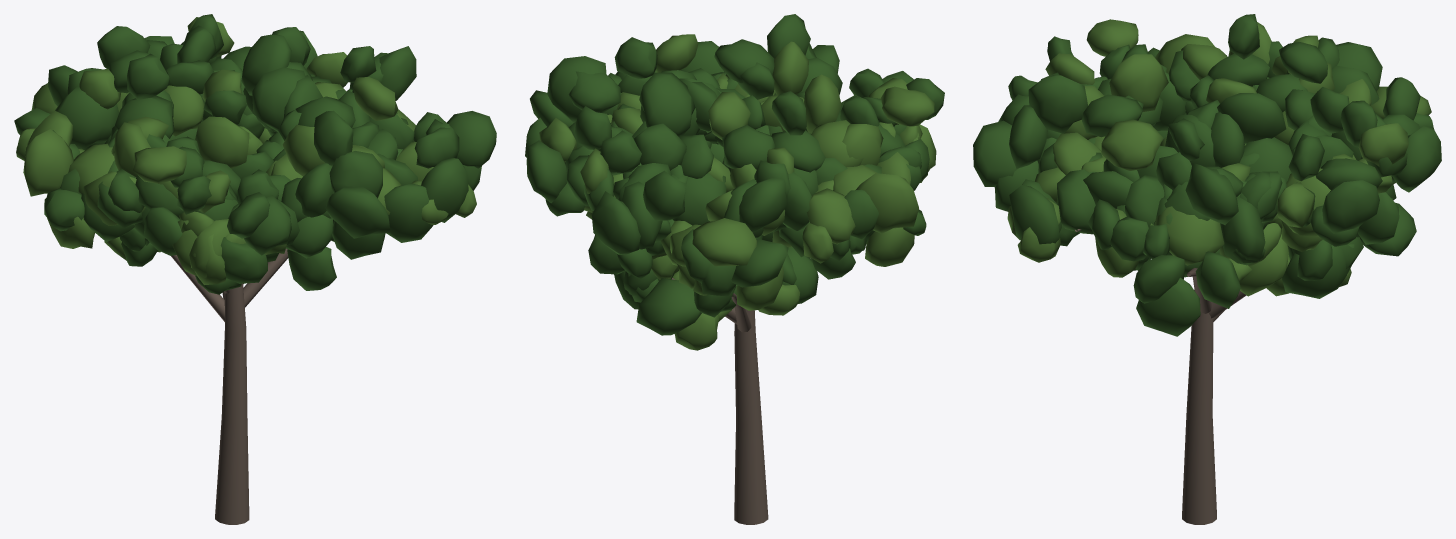
File: city_neem_5.glb
The picture shows the model from 3 angles, left to right: view 1: azimuth 30°, elevation 25°; view 2: azimuth 150°, elevation 25°; view 3: azimuth 270°, elevation 25°; orthographic projection. The views are drawn at different scales.
Visible parts, largest first — view 1: Branch; view 2: Branch; view 3: Branch.
Part boxes in pixels (x1=…): Branch: x1=14, y1=14, x2=496, y2=524; Branch: x1=525, y1=14, x2=944, y2=524; Branch: x1=973, y1=14, x2=1441, y2=524.
Size of the model in its own units: 8.86 by 9.14 by 8.26.
